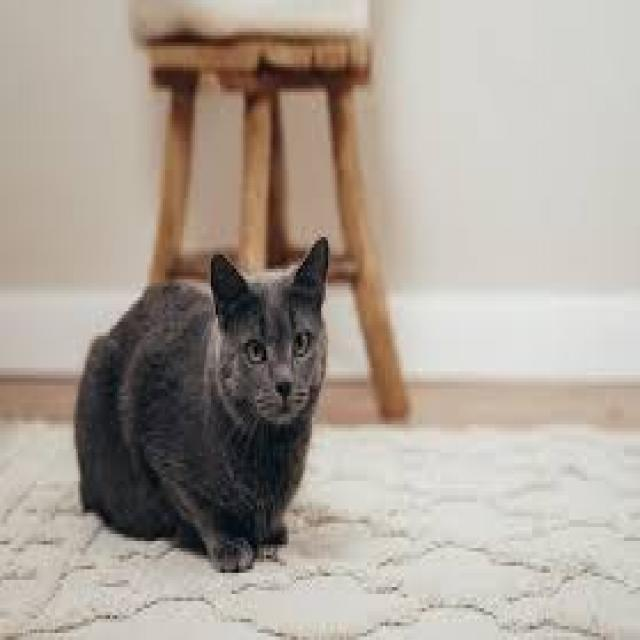Cat: (68, 232, 334, 578)
